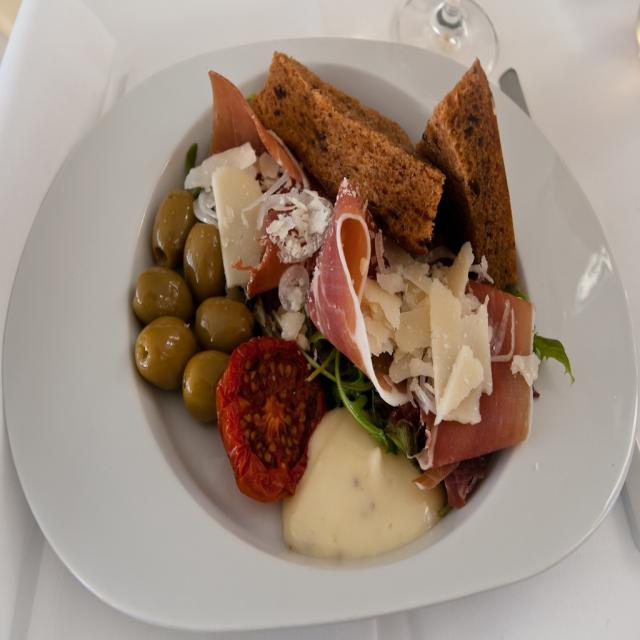Cheese: (283, 404, 446, 558)
